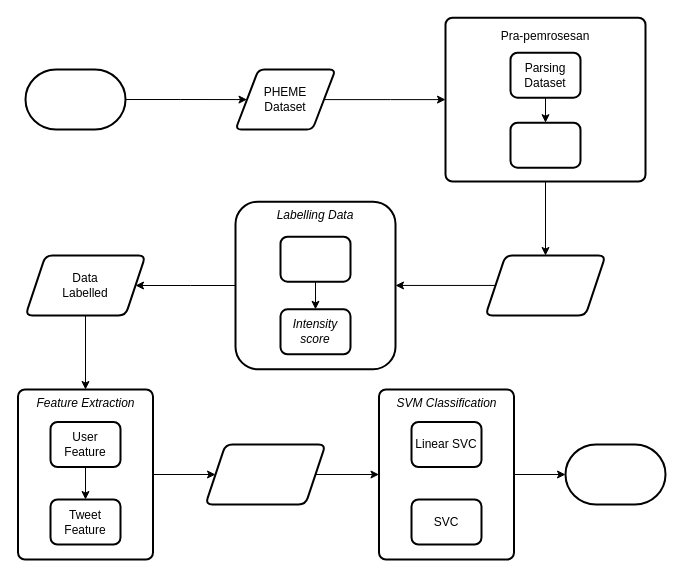
The diagram is 684 pixels wide and 578 high, and some of its shapes have lost their labels. Here are the shapes that lost their labels. From the top down, the centre of each, then its label:
At [75,99]: "Mulai".
At [545,144]: "Cleaning Dataset".
At [315,258]: "Sentiment analysis".
At [545,285]: "Data Preprocessed".
At [265,474]: "Data Extracted".
At [615,474]: "Selesai".
